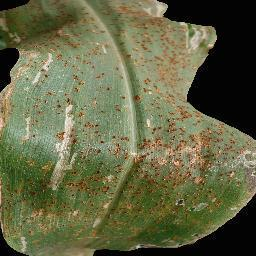Corn_Common_Rust: (0, 0, 116, 256), (118, 102, 256, 250), (118, 25, 220, 100), (116, 0, 195, 24)
